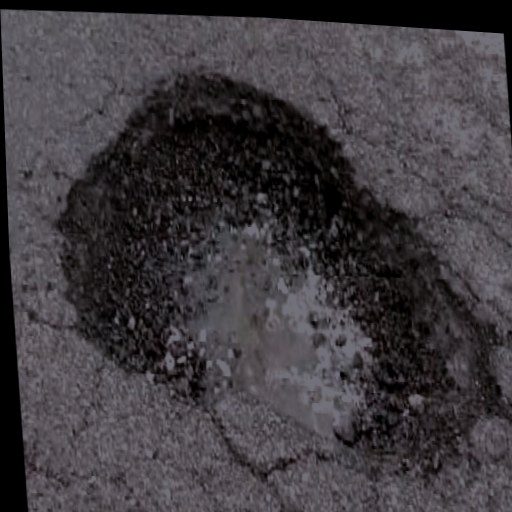pothole: (37, 39, 512, 503)
